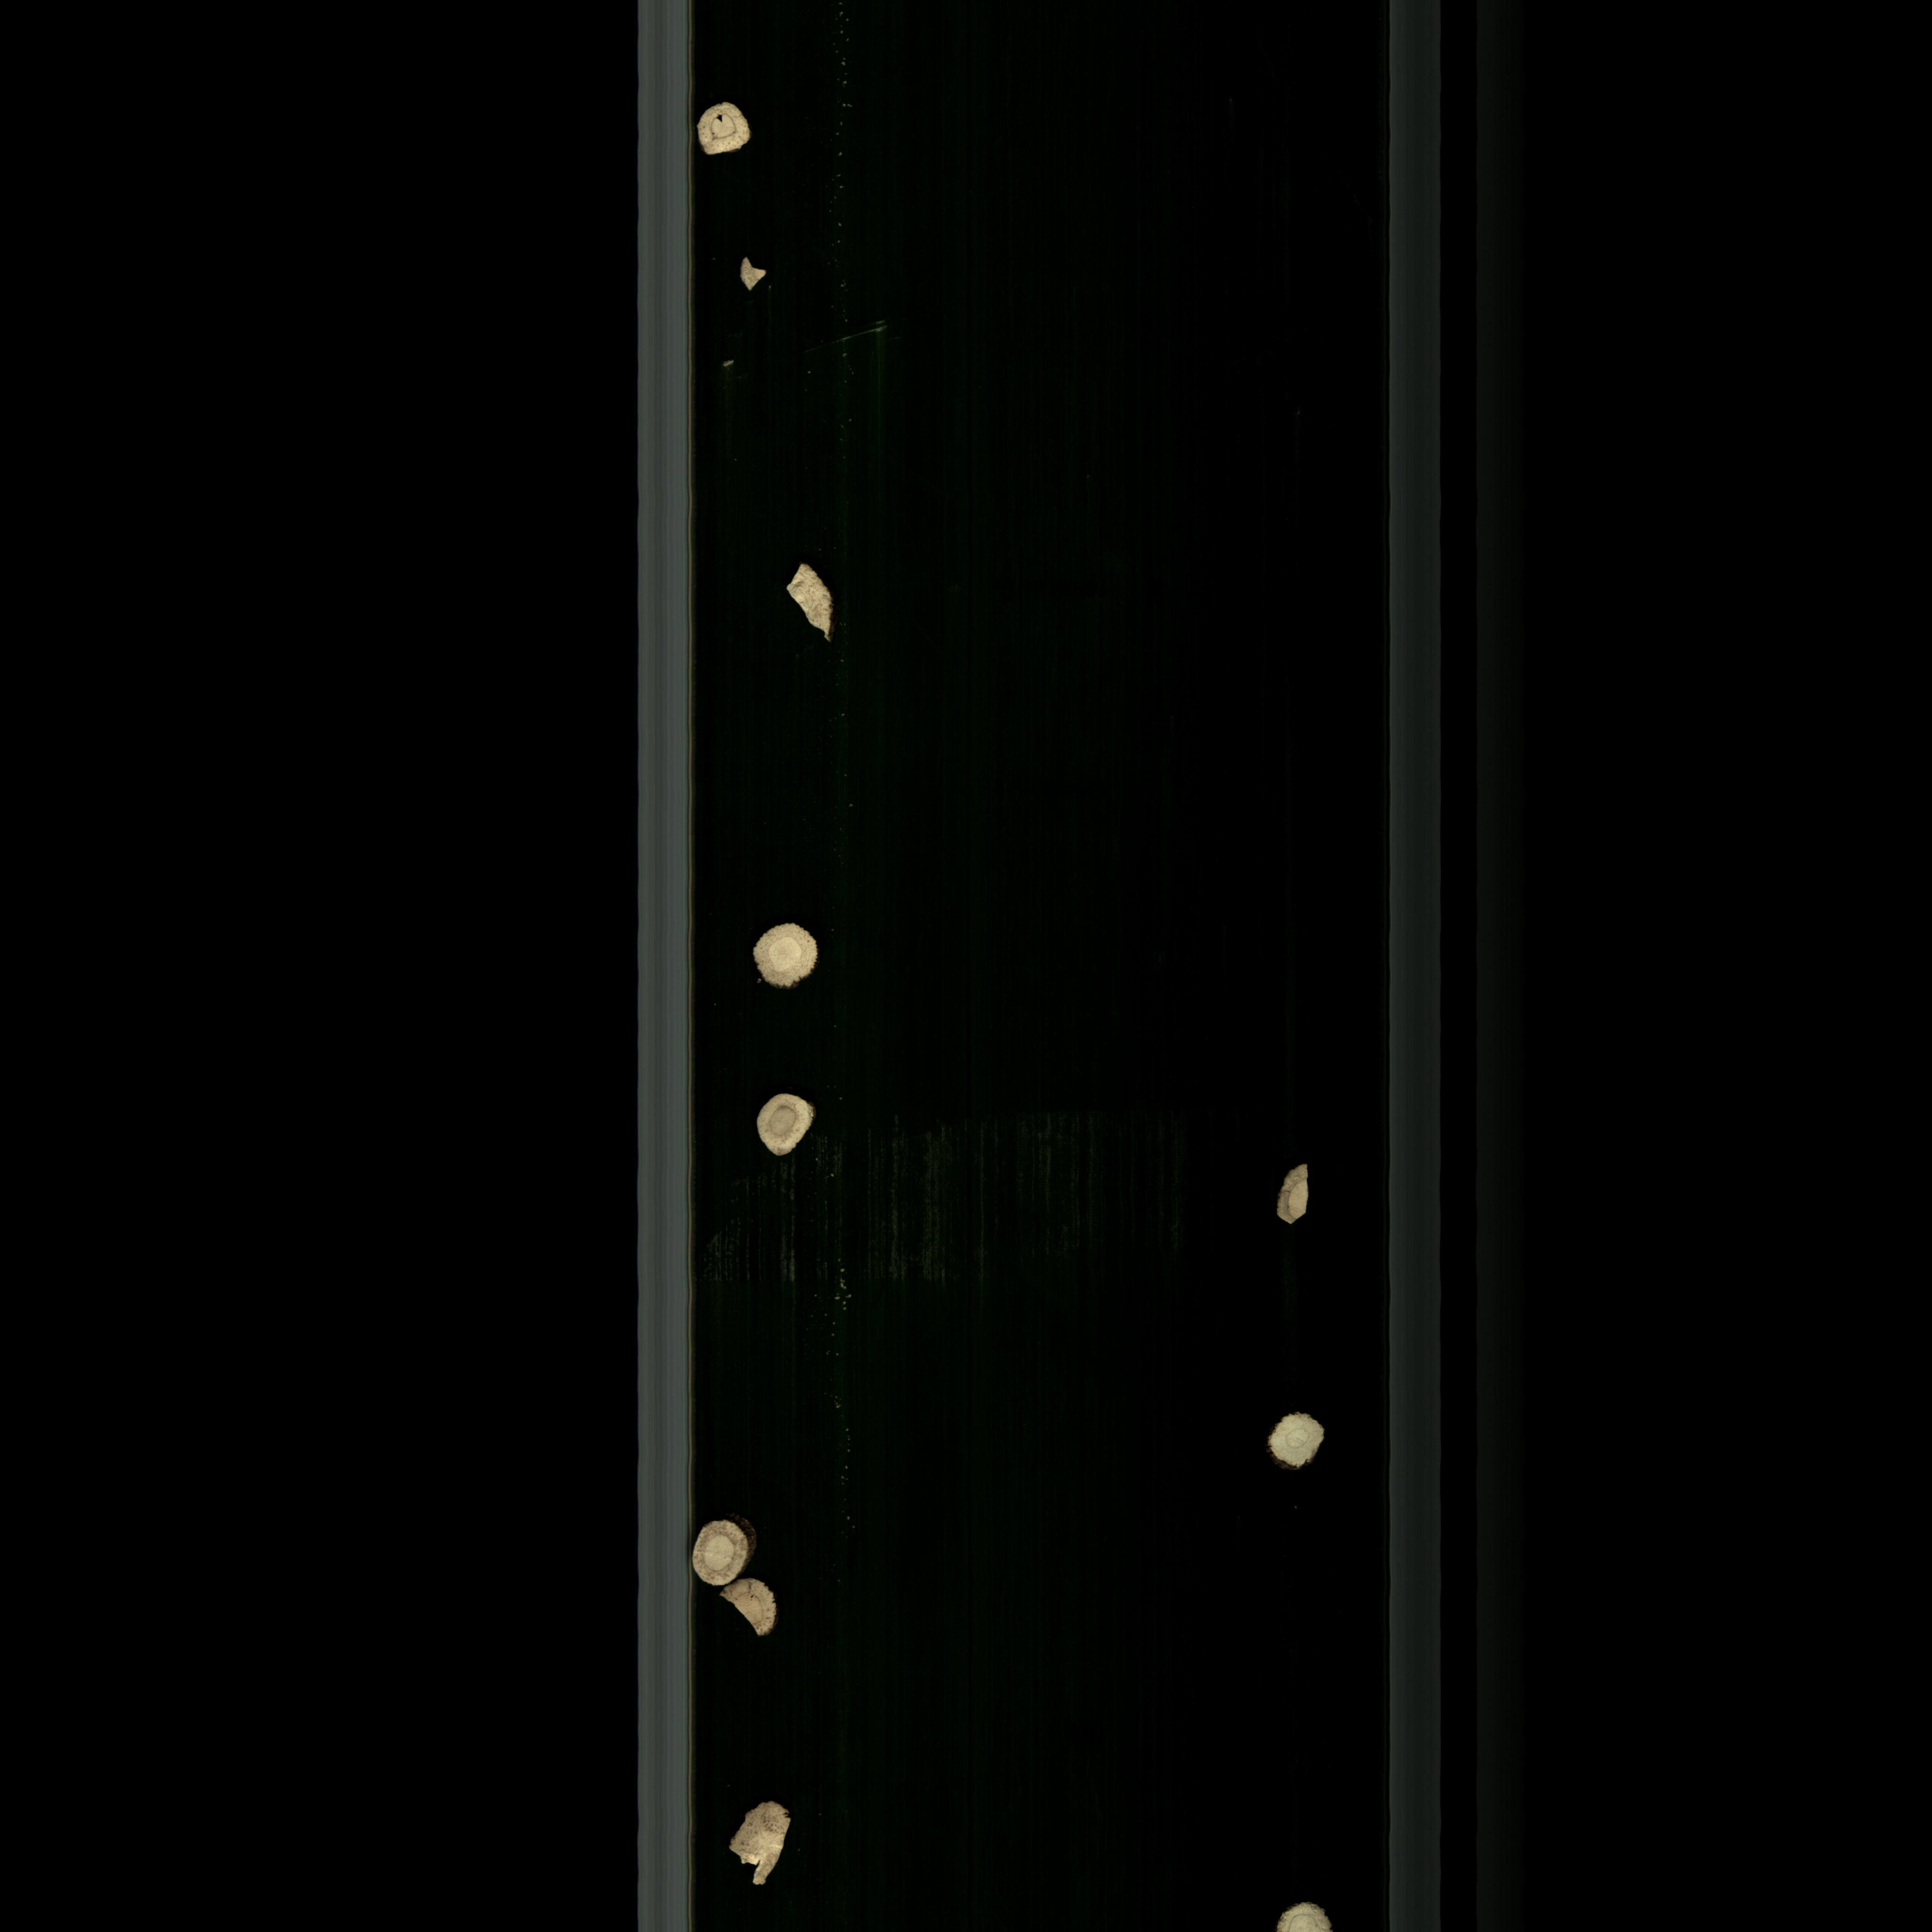debris: (713, 1782, 798, 1898), (777, 552, 846, 656)
dreg: (1263, 1154, 1325, 1240), (734, 248, 775, 297)
hole: (685, 103, 759, 165)
moldy: (741, 1081, 839, 1175), (685, 1514, 747, 1594), (720, 1580, 789, 1645)
